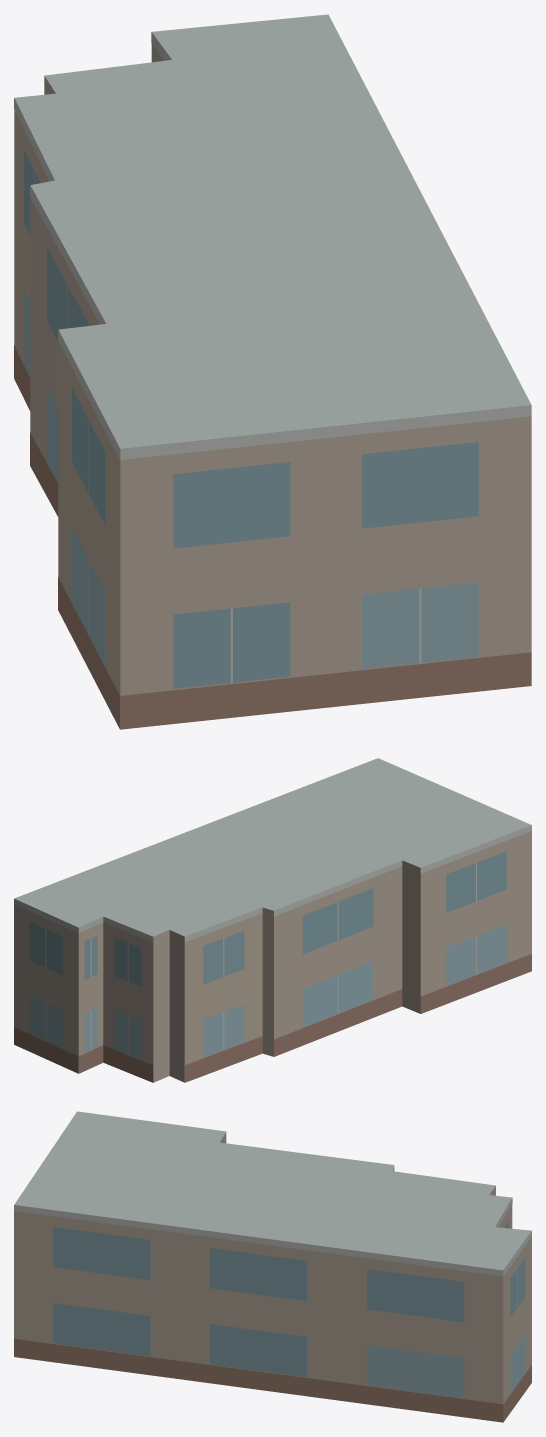
The model's file is survey-upis-32884029.glb.
3 views of the same model, one above another, from view 1: azimuth 30°, elevation 25°; view 2: azimuth 150°, elevation 25°; view 3: azimuth 270°, elevation 25° (orthographic). The views are drawn at different scales.
Parts seen in each view (by area): view 1: survey-upis-32884029.tmp; view 2: survey-upis-32884029.tmp; view 3: survey-upis-32884029.tmp.
Part boxes in pixels (x1,y1,x2,y2): survey-upis-32884029.tmp: [14, 14, 531, 729]; survey-upis-32884029.tmp: [14, 758, 531, 1082]; survey-upis-32884029.tmp: [14, 1111, 531, 1422].
Size of the model in its own units: 13.69 by 6.1 by 18.82.
